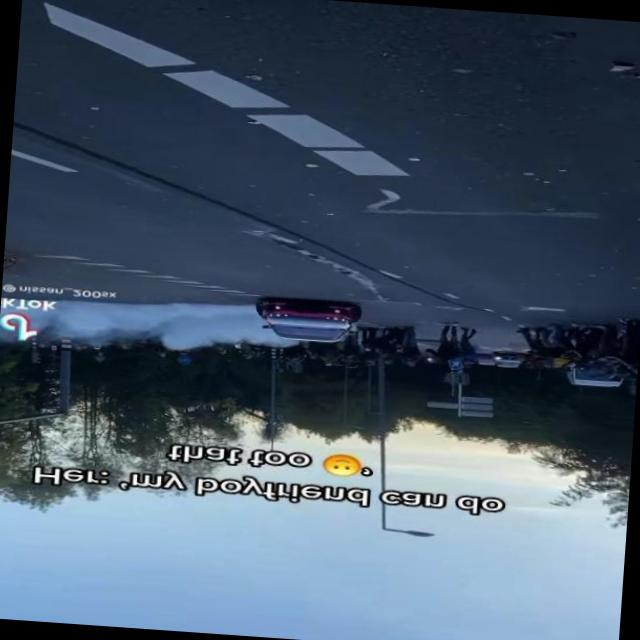car: (252, 294, 364, 348)
